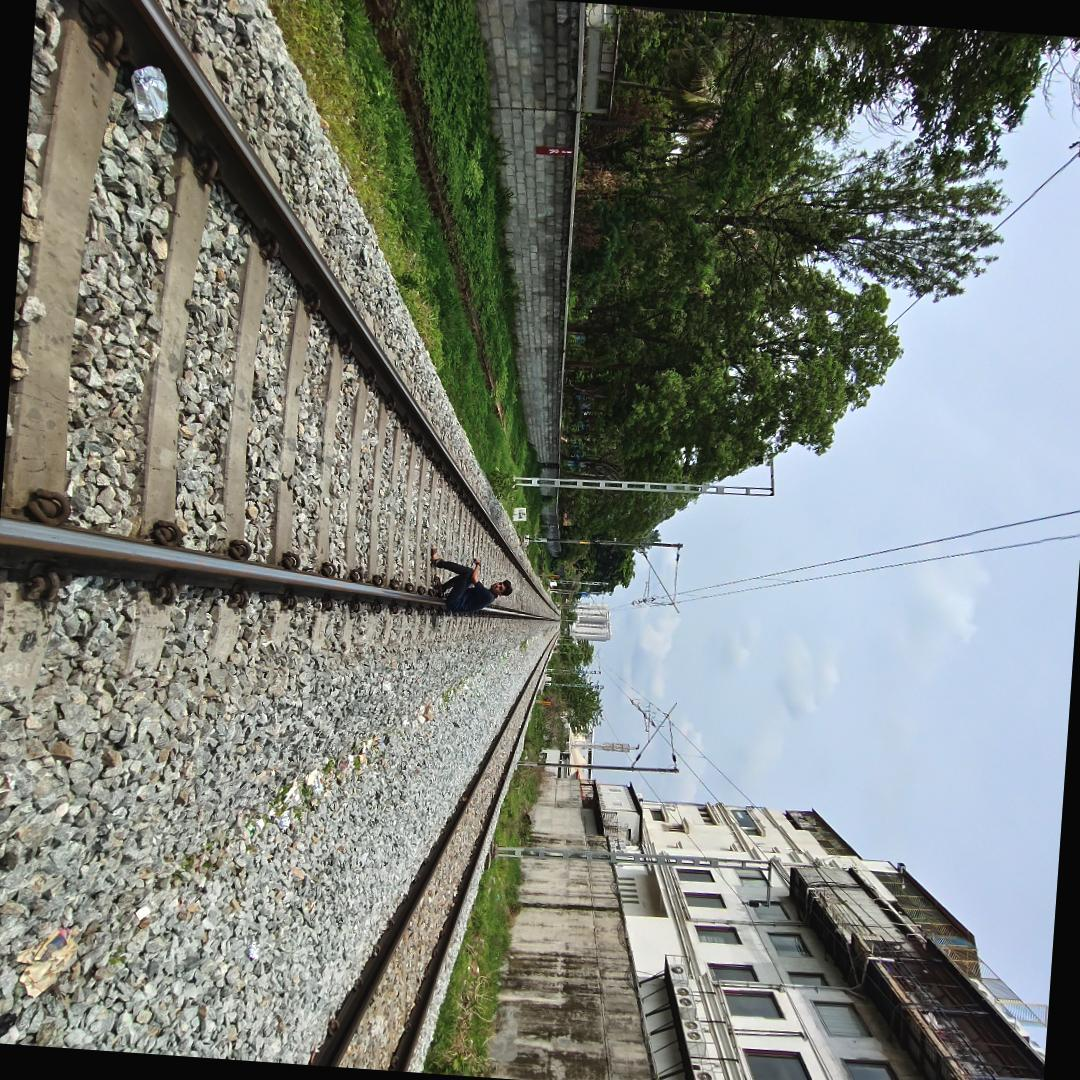sitting: (425, 541, 517, 618)
